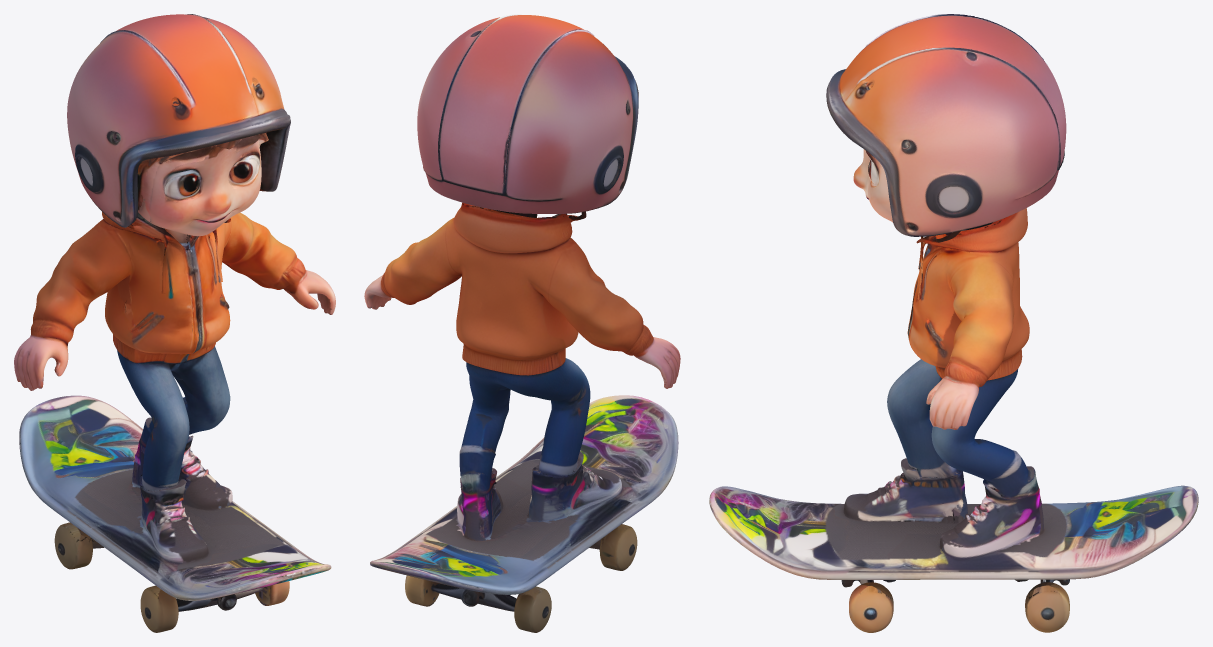
The model's file is player_game.glb.
3 renders of one model, left to right at view 1: azimuth 30°, elevation 25°; view 2: azimuth 150°, elevation 25°; view 3: azimuth 270°, elevation 25°, orthographic. The views are drawn at different scales.
Visible parts, largest first — view 1: model; view 2: model; view 3: model.
Part boxes in pixels (<box>): model: <box>14,14,335,632</box>; model: <box>364,14,680,632</box>; model: <box>709,14,1198,632</box>.
Bounding box in the file's own units: 1.09 × 1.9 × 1.46.
Materials: 1 (1 with a texture image).
